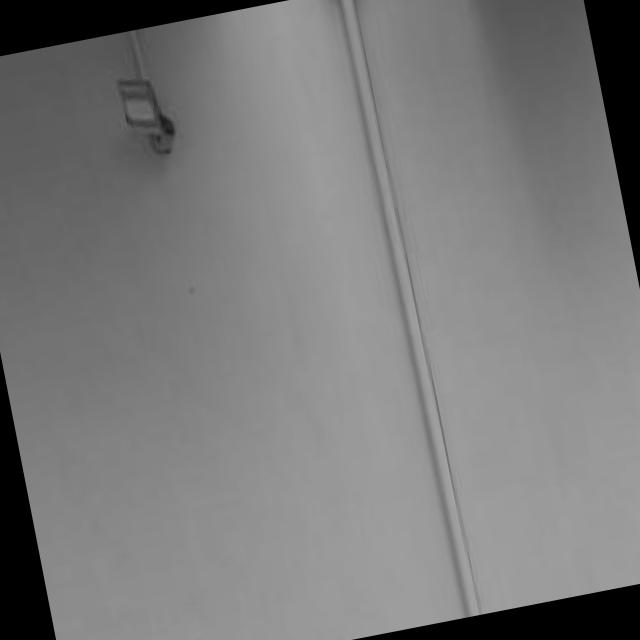Guns: (625, 463, 640, 582)
